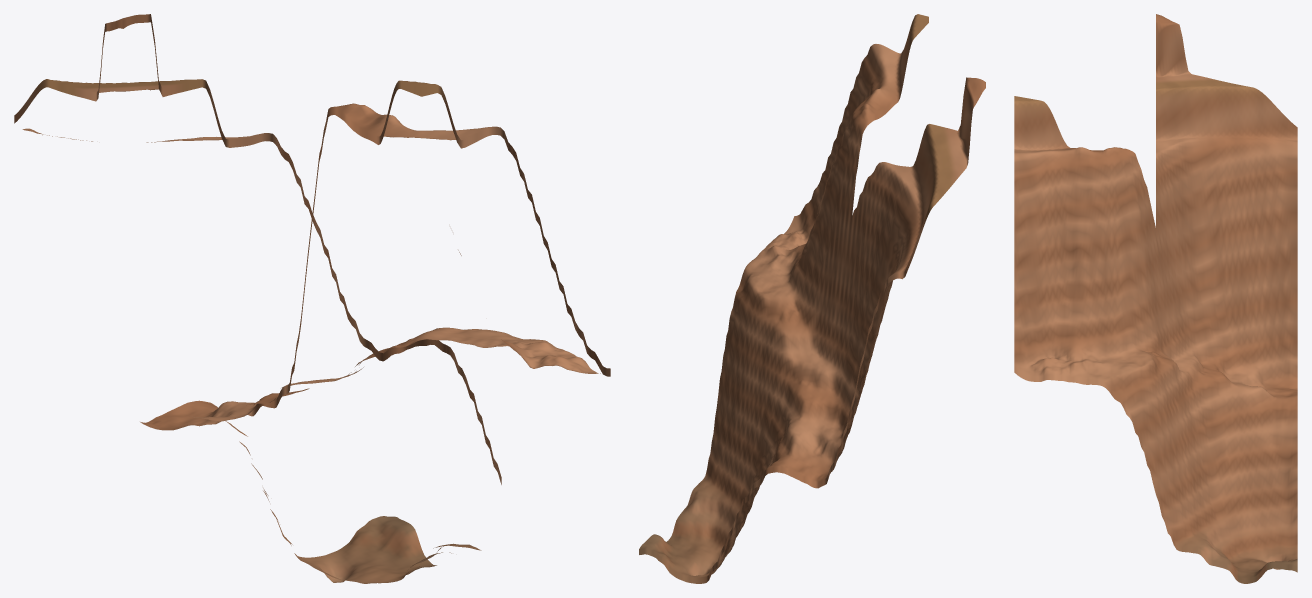
File: terrain-010.glb
The picture shows the model from 3 angles, left to right: view 1: azimuth 30°, elevation 25°; view 2: azimuth 150°, elevation 25°; view 3: azimuth 270°, elevation 25°; orthographic projection. The views are drawn at different scales.
Visible parts, largest first — view 1: terrain-010; view 2: terrain-010; view 3: terrain-010.
Part boxes in pixels (box(x1,y1,x2,y2)): terrain-010: box(14, 14, 610, 583); terrain-010: box(639, 14, 985, 583); terrain-010: box(1014, 14, 1297, 583).
Bounding box in the file's own units: 192 × 343 × 192.
